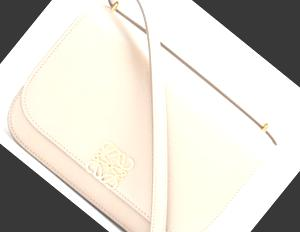LOEWE: (78, 136, 140, 198)
